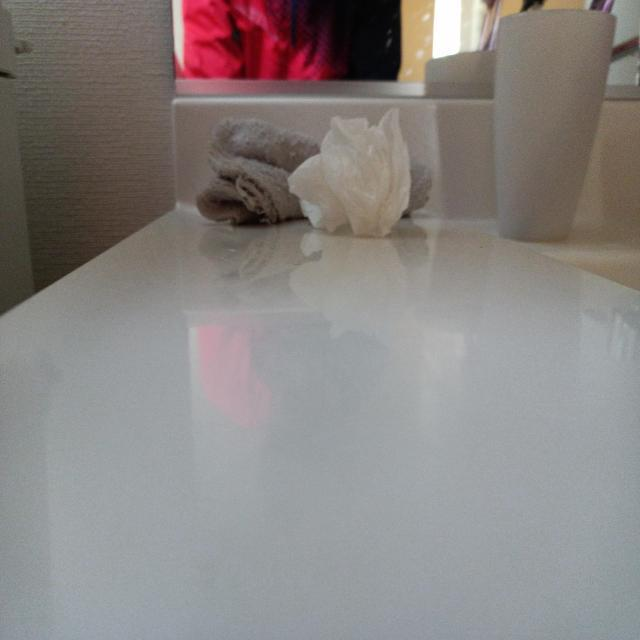Paper: (288, 103, 410, 239)
